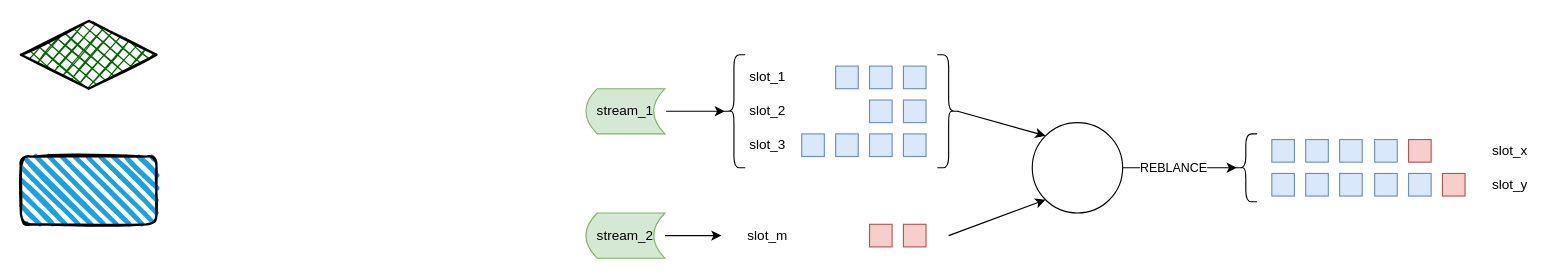
This 1563x278 diagram has some shape labels left out. The box of each missing label's shape, as (x1, y1, x2, y2) in pixels:
Begin: (19, 19, 157, 89)
BroadCast Connect: (1031, 121, 1123, 213)
